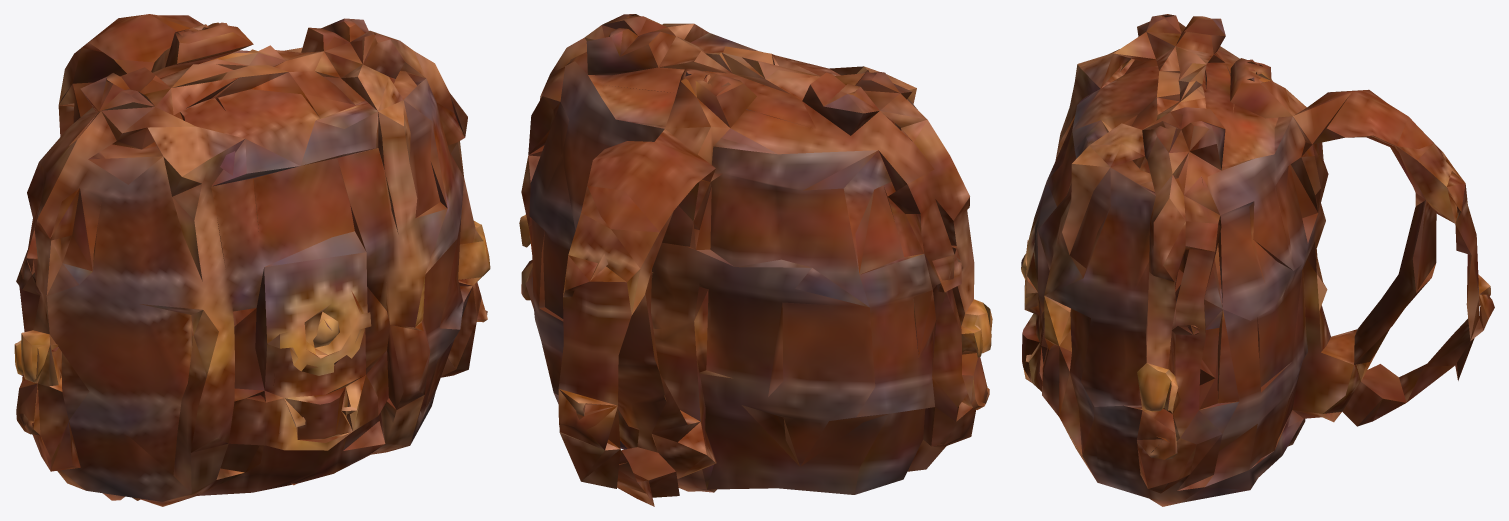
File: barrel-pack.glb
3 renders of one model, left to right at view 1: azimuth 30°, elevation 25°; view 2: azimuth 150°, elevation 25°; view 3: azimuth 270°, elevation 25°, orthographic. The views are drawn at different scales.
Size of the model in its own units: 1.9 by 1.61 by 1.81.
1 material, 1 textured.
